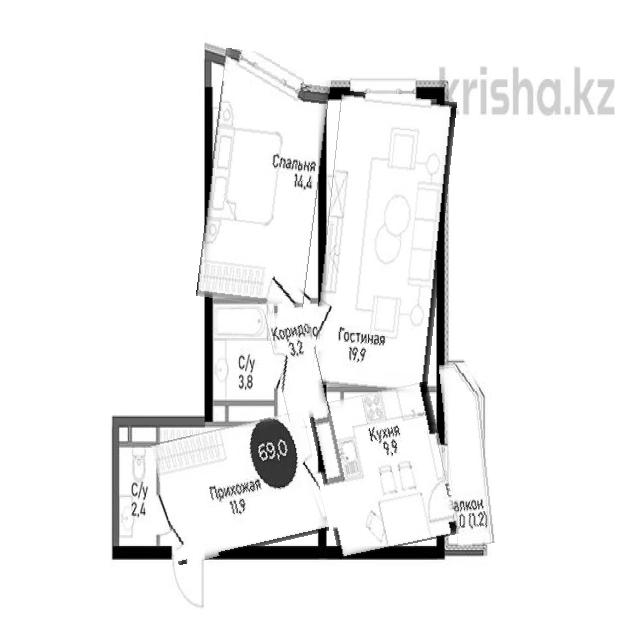balcony: (444, 362, 490, 545)
bathroom: (207, 310, 275, 416), (115, 422, 158, 548)
hallway: (157, 418, 324, 558), (271, 308, 325, 420)
kitchen: (315, 387, 452, 554)
living_room: (319, 93, 449, 392), (204, 51, 326, 306)
